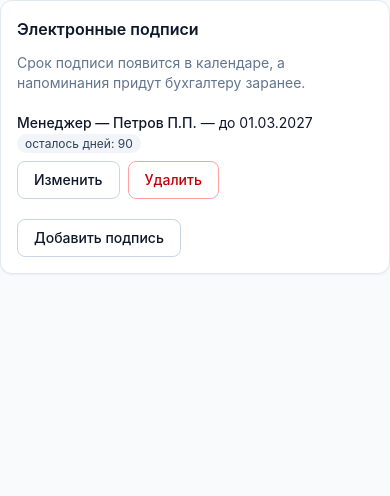
Test: подпись из списка › при изменении разбирает владельца и даёт вписать своего
Later steps or results of the test are not shown.
Step 1. Click the button "Изменить" → (68, 180), box [17,161,120,199]
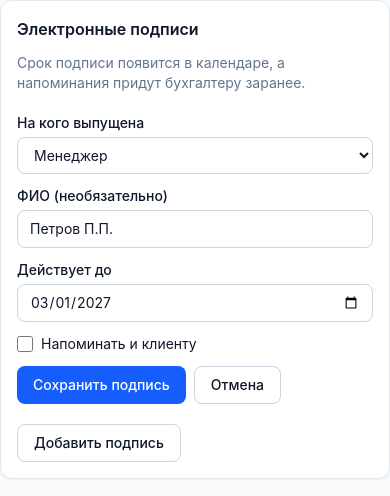
Expected: the dropdown labelled "На кого выпущена" shows "Менеджер", [17,137,373,174]
Expected: the field showing "Петров П.П." is shown, [17,210,373,248]
